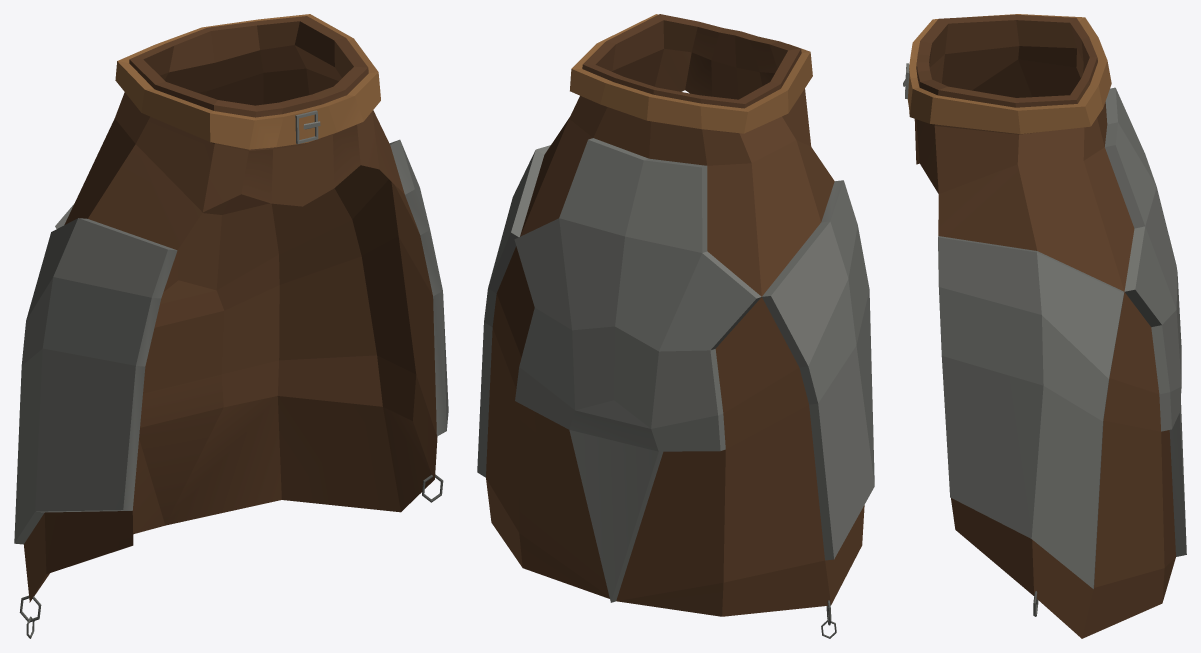
Rendered from falda de cuero.fbx.
The picture shows the model from 3 angles, left to right: view 1: azimuth 30°, elevation 25°; view 2: azimuth 150°, elevation 25°; view 3: azimuth 270°, elevation 25°; orthographic projection. The views are drawn at different scales.
Parts seen in each view (by area): view 1: Falda; view 2: Falda; view 3: Falda.
Part boxes in pixels (bbox=[...]): Falda: bbox=[14, 14, 448, 638]; Falda: bbox=[477, 14, 874, 638]; Falda: bbox=[903, 14, 1186, 638].
Bounding box in the file's own units: 115 × 149 × 71.99.
